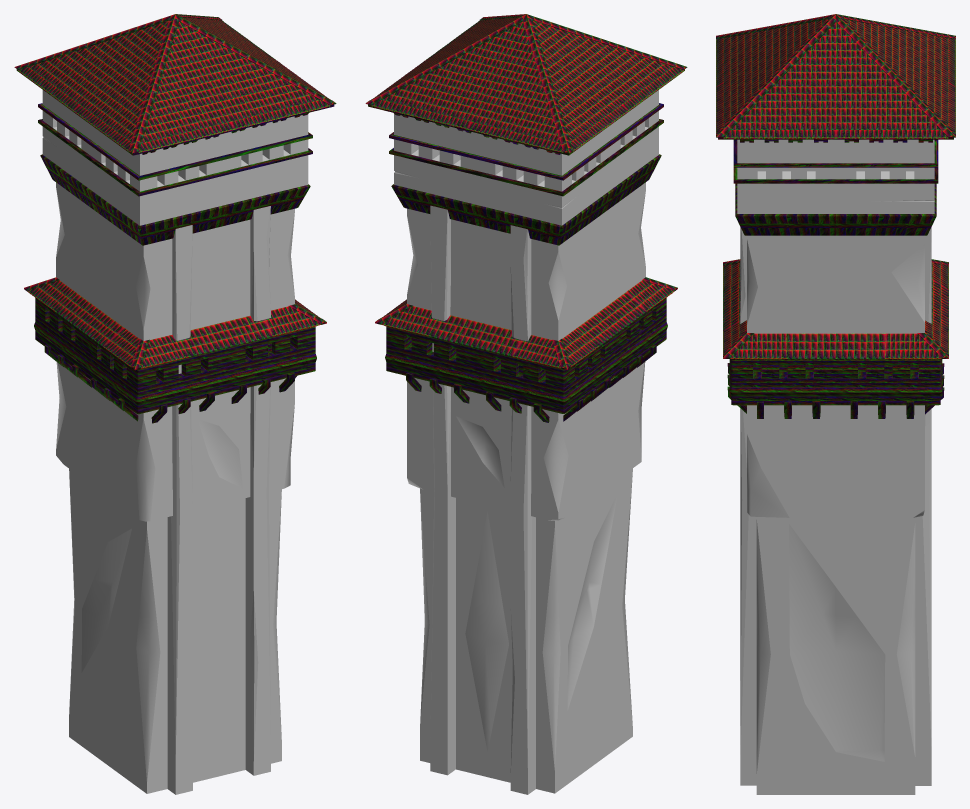
Rendered from SM_30x30TowerSquareLarge_Top.fbx.
The picture shows the model from 3 angles, left to right: view 1: azimuth 30°, elevation 25°; view 2: azimuth 150°, elevation 25°; view 3: azimuth 270°, elevation 25°; orthographic projection.
Parts seen in each view (by area): view 1: SM_30x30TowerSquareLarge_Top_LOD0; view 2: SM_30x30TowerSquareLarge_Top_LOD0; view 3: SM_30x30TowerSquareLarge_Top_LOD0.
Boxes of the visible parts, x1,y1,x2,y2 form: SM_30x30TowerSquareLarge_Top_LOD0: [14, 14, 336, 794]; SM_30x30TowerSquareLarge_Top_LOD0: [365, 14, 687, 794]; SM_30x30TowerSquareLarge_Top_LOD0: [716, 14, 955, 794].
Size of the model in its own units: 3400 by 3400 by 11692.
3 materials, 2 textured.
